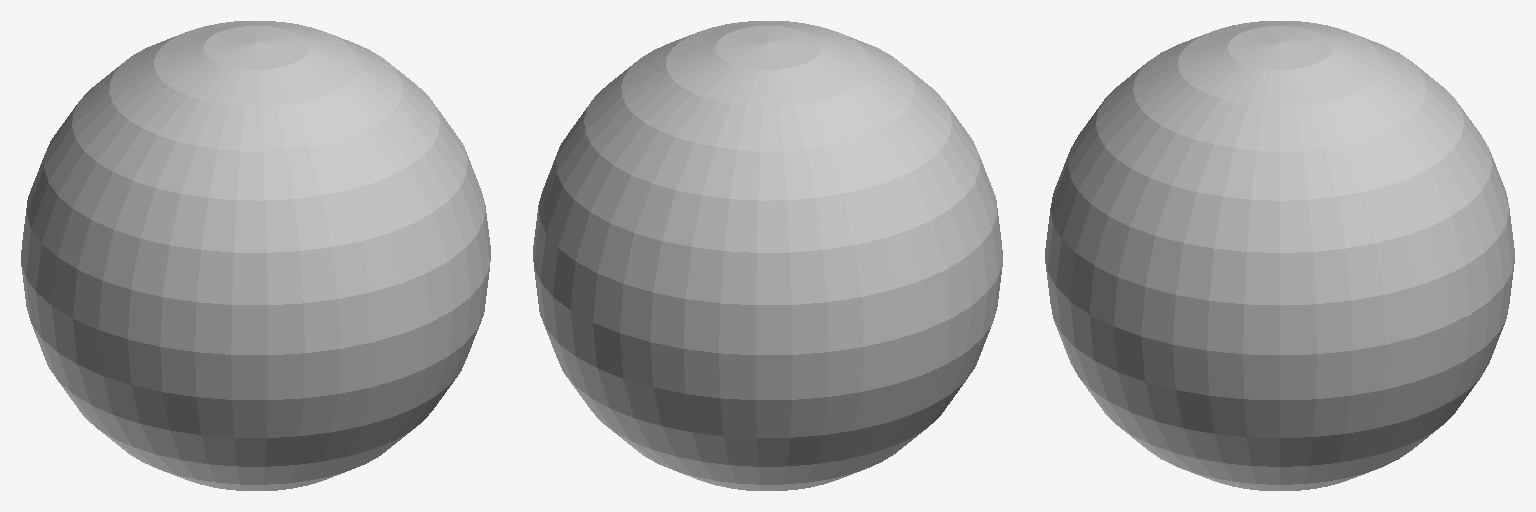
Rendered from spheretest1.obj.
3 renders of one model, left to right at view 1: azimuth 30°, elevation 25°; view 2: azimuth 150°, elevation 25°; view 3: azimuth 270°, elevation 25°, orthographic.
Parts seen in each view (by area): view 1: Sphere; view 2: Sphere; view 3: Sphere.
Part boxes in pixels (x1,y1,x2,y2): Sphere: (21,21,490,490); Sphere: (533,21,1002,490); Sphere: (1045,21,1514,490).
Size of the model in its own units: 2 by 2 by 2.